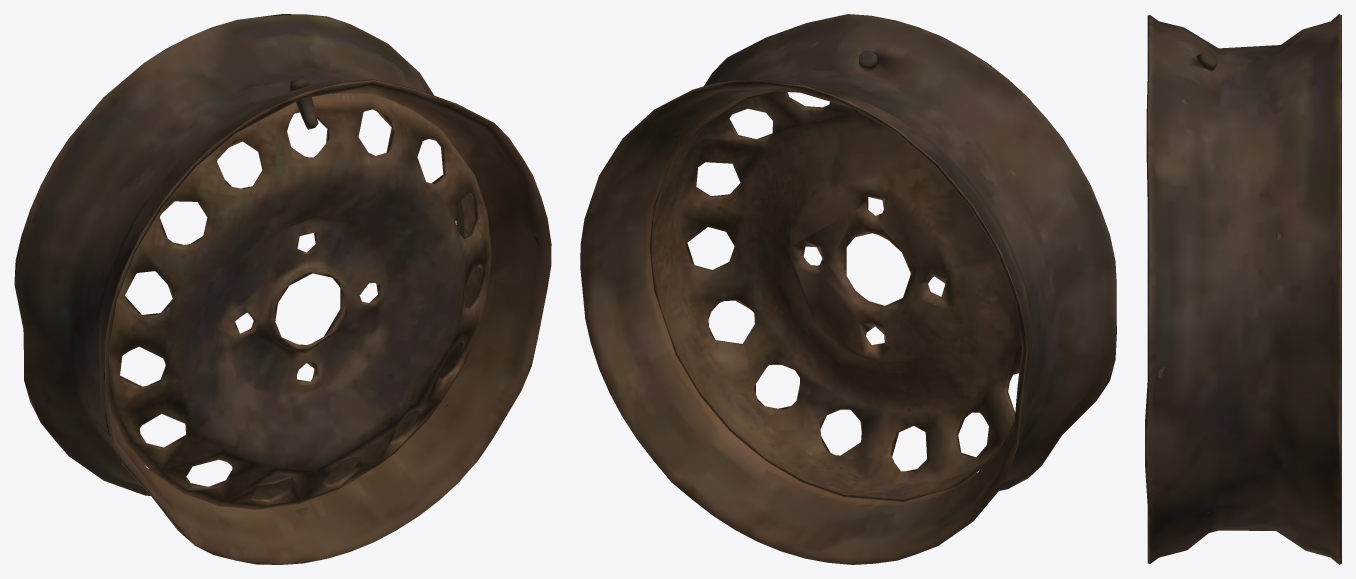
File: rusted_wheel_rim_02.glb
3 views of the same model, side by side, from view 1: azimuth 30°, elevation 25°; view 2: azimuth 150°, elevation 25°; view 3: azimuth 270°, elevation 25° (orthographic). The views are drawn at different scales.
Visible parts, largest first — view 1: rusted_wheel_rim_02; view 2: rusted_wheel_rim_02; view 3: rusted_wheel_rim_02.
Part boxes in pixels (x1,y1,x2,y2): rusted_wheel_rim_02: (14, 14, 551, 564); rusted_wheel_rim_02: (580, 14, 1116, 564); rusted_wheel_rim_02: (1145, 14, 1341, 564).
Size of the model in its own units: 0.3345 by 0.3374 by 0.1205.
1 material, 1 textured.
